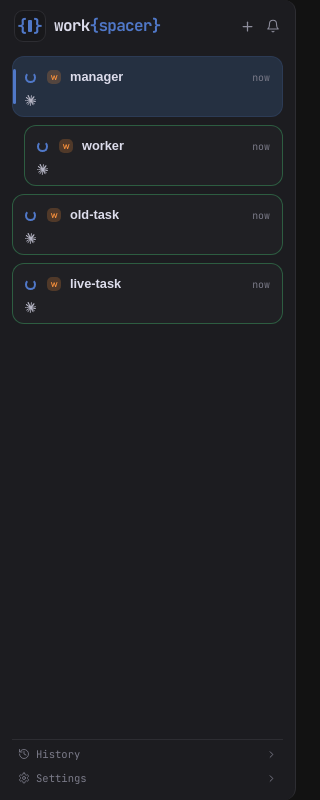
Test case: SideBar archived sessions › offers no Archive item when the hub has no shared archive
Right-click the text "live-task": (96, 284) x1=70 y1=276 x2=121 y2=292
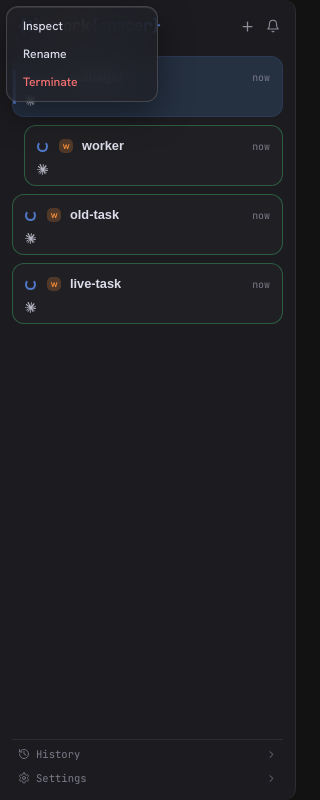
Expected: the menu item "Terminate" is shown, x1=12 y1=68 x2=152 y2=96
